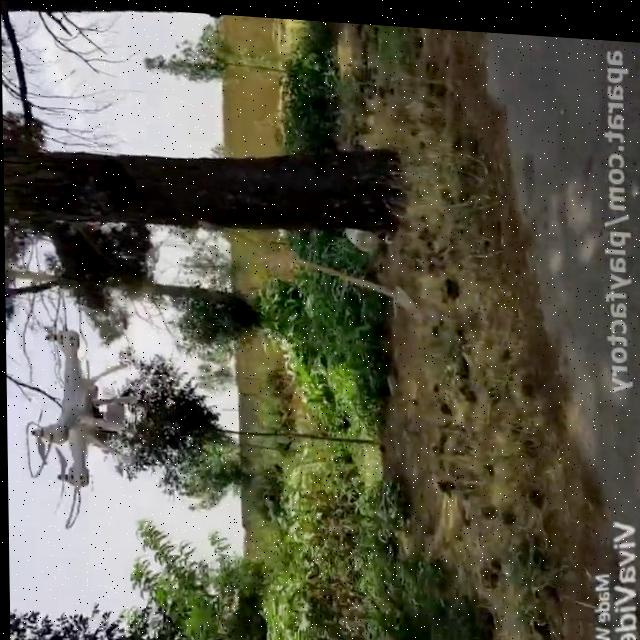drone: (19, 312, 133, 531)
